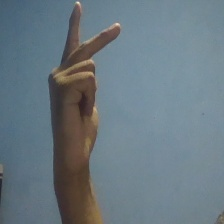K: (43, 1, 124, 176)
